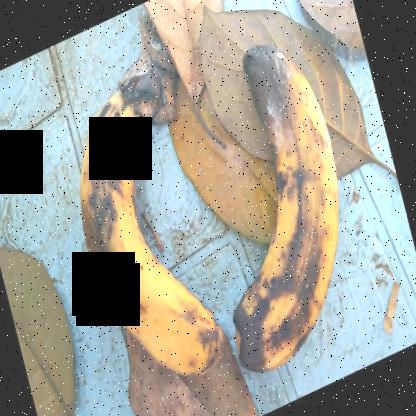overripe: (72, 81, 229, 396), (233, 41, 343, 381)
